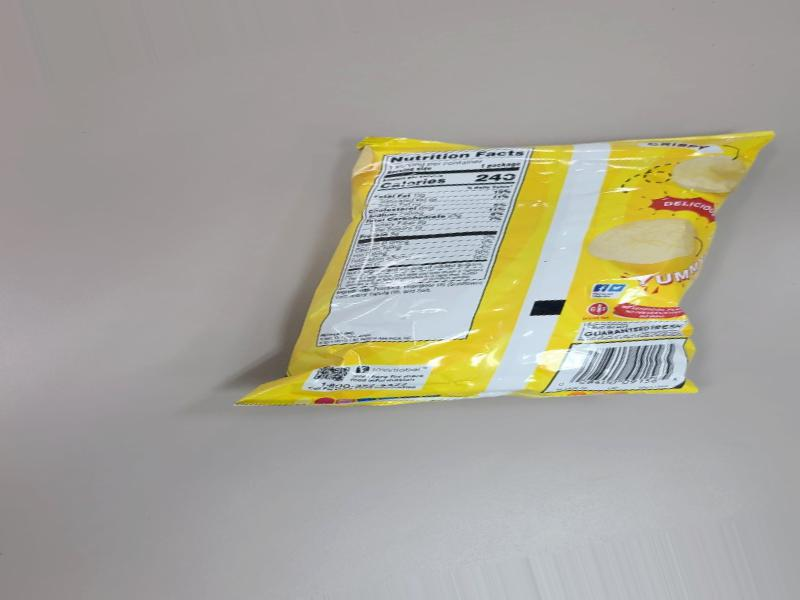lays: (240, 150, 773, 424)
